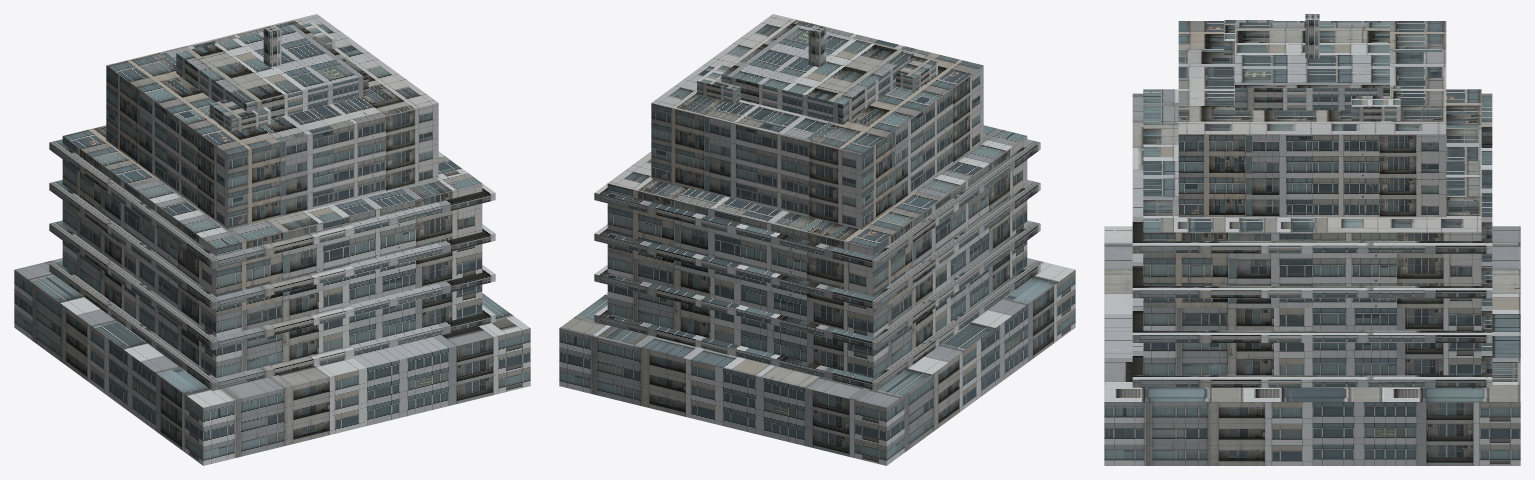
The model's file is city_building.glb.
3 renders of one model, left to right at view 1: azimuth 30°, elevation 25°; view 2: azimuth 150°, elevation 25°; view 3: azimuth 270°, elevation 25°, orthographic. The views are drawn at different scales.
Bounding box in the file's own units: 1.18 × 1.13 × 1.18.
Materials: 1 (1 with a texture image).
